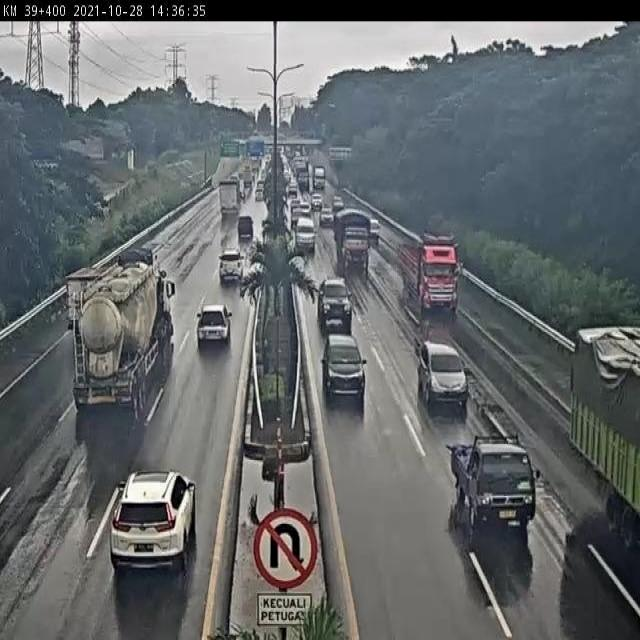Car: (109, 469, 198, 573), (418, 340, 472, 410), (321, 333, 367, 407), (317, 274, 353, 332), (196, 303, 232, 346), (218, 249, 246, 284), (238, 215, 255, 240), (290, 208, 303, 231), (320, 206, 334, 226), (370, 218, 380, 244), (310, 192, 323, 211), (332, 195, 344, 213), (255, 180, 265, 200), (290, 198, 301, 212), (300, 202, 310, 215), (288, 184, 297, 198)
Truck: (566, 323, 640, 553), (70, 262, 175, 418), (446, 432, 544, 531), (396, 231, 460, 316), (66, 266, 106, 330), (333, 208, 372, 273), (116, 246, 158, 268), (218, 178, 240, 216), (312, 164, 326, 192), (242, 168, 252, 190)
Van: (294, 218, 317, 256)
